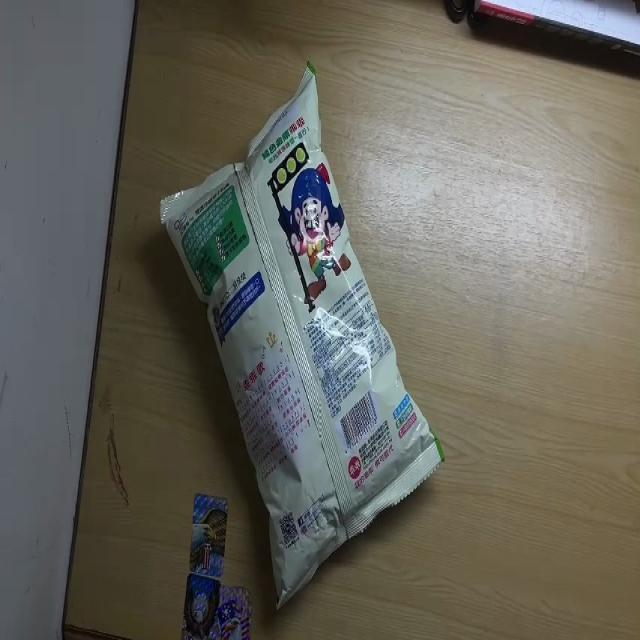Good-Luck: (156, 62, 445, 614)
